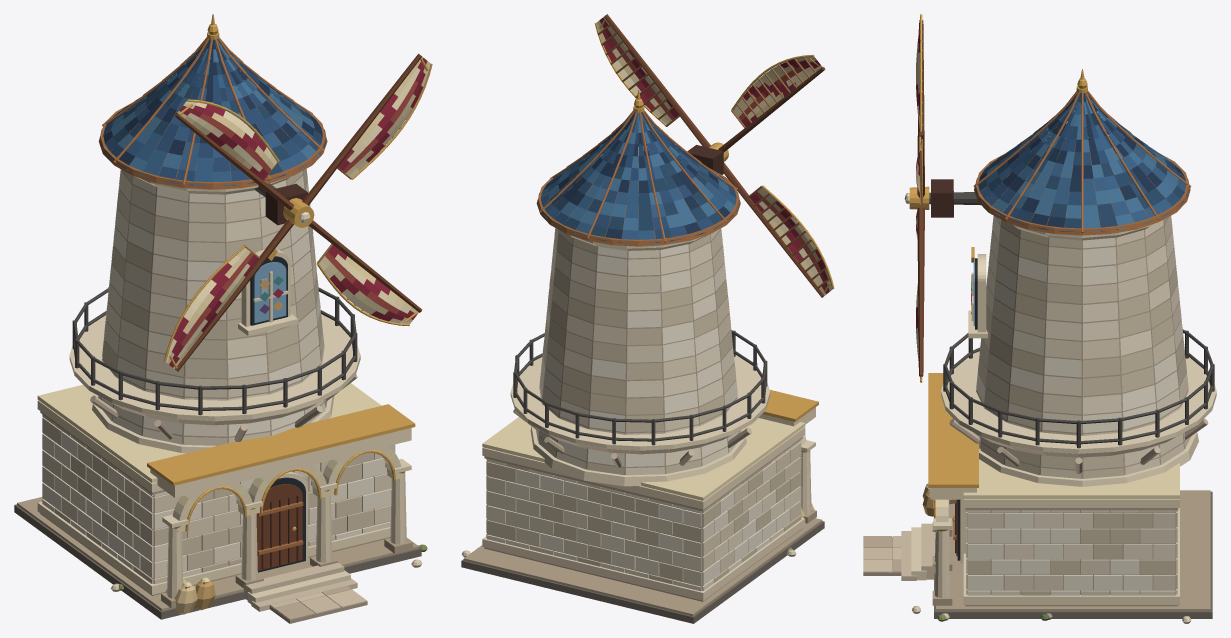
The model's file is windmill-nivel-8.glb.
3 views of the same model, side by side, from view 1: azimuth 30°, elevation 25°; view 2: azimuth 150°, elevation 25°; view 3: azimuth 270°, elevation 25° (orthographic). The views are drawn at different scales.
Parts seen in each view (by area): view 1: Moinho de vento 08 #e6d7ba, Moinho de vento 08 #ded1b9, Moinho de vento 08 #cec1a8, Moinho de vento 08 #e8dcc5, Moinho de vento 08 #eae1ce, Moinho de vento 08 #d5a452, Moinho de vento 08 #b3a390, Moinho de vento 08 #eadbb2, Moinho de vento 08 #a76e42, Moinho de vento 08 #504e4b, Moinho de vento 08 #b4a38a, Pás do moinho #922b40.001 (+18 smaller); view 2: Moinho de vento 08 #cec1a8, Moinho de vento 08 #e6d7ba, Moinho de vento 08 #e8dcc5, Moinho de vento 08 #ded1b9, Moinho de vento 08 #eae1ce, Moinho de vento 08 #b3a390, Moinho de vento 08 #b4a38a, Moinho de vento 08 #eadbb2, Moinho de vento 08 #a76e42, Moinho de vento 08 #504e4b, Moinho de vento 08 #426e90, Moinho de vento 08 #284763 (+14 smaller); view 3: Moinho de vento 08 #e6d7ba, Moinho de vento 08 #cec1a8, Moinho de vento 08 #ded1b9, Moinho de vento 08 #e8dcc5, Moinho de vento 08 #eae1ce, Moinho de vento 08 #b3a390, Moinho de vento 08 #b4a38a, Moinho de vento 08 #426e90, Moinho de vento 08 #a76e42, Moinho de vento 08 #504e4b, Moinho de vento 08 #eadbb2, Moinho de vento 08 #d5a452 (+11 smaller).
Part boxes in pixels (left/top/right/bottom): Moinho de vento 08 #e6d7ba: left=37, top=176, right=411, bottom=603; Moinho de vento 08 #ded1b9: left=42, top=179, right=395, bottom=584; Moinho de vento 08 #cec1a8: left=42, top=169, right=373, bottom=583; Moinho de vento 08 #e8dcc5: left=42, top=169, right=390, bottom=578; Moinho de vento 08 #eae1ce: left=42, top=180, right=391, bottom=569; Moinho de vento 08 #d5a452: left=147, top=14, right=415, bottom=531; Moinho de vento 08 #b3a390: left=99, top=170, right=390, bottom=583; Moinho de vento 08 #eadbb2: left=37, top=383, right=402, bottom=532; Moinho de vento 08 #a76e42: left=98, top=37, right=327, bottom=554; Moinho de vento 08 #504e4b: left=72, top=183, right=357, bottom=415; Moinho de vento 08 #b4a38a: left=17, top=411, right=418, bottom=611; Pás do moinho #922b40.001: left=169, top=58, right=427, bottom=367; Moinho de vento 08 #cec1a8: left=486, top=228, right=801, bottom=584; Moinho de vento 08 #e6d7ba: left=482, top=235, right=815, bottom=600; Moinho de vento 08 #e8dcc5: left=486, top=228, right=801, bottom=591; Moinho de vento 08 #ded1b9: left=486, top=229, right=801, bottom=585; Moinho de vento 08 #eae1ce: left=539, top=238, right=801, bottom=590; Moinho de vento 08 #b3a390: left=487, top=229, right=740, bottom=590; Moinho de vento 08 #b4a38a: left=463, top=437, right=822, bottom=616; Moinho de vento 08 #eadbb2: left=482, top=417, right=805, bottom=500; Moinho de vento 08 #a76e42: left=536, top=110, right=740, bottom=246; Moinho de vento 08 #504e4b: left=513, top=330, right=767, bottom=445; Moinho de vento 08 #426e90: left=538, top=113, right=737, bottom=230; Moinho de vento 08 #284763: left=543, top=112, right=722, bottom=242; Moinho de vento 08 #e6d7ba: left=911, top=223, right=1216, bottom=604; Moinho de vento 08 #cec1a8: left=968, top=217, right=1186, bottom=595; Moinho de vento 08 #ded1b9: left=966, top=216, right=1188, bottom=595; Moinho de vento 08 #e8dcc5: left=966, top=217, right=1190, bottom=595; Moinho de vento 08 #eae1ce: left=966, top=216, right=1188, bottom=595; Moinho de vento 08 #b3a390: left=967, top=217, right=1187, bottom=594; Moinho de vento 08 #b4a38a: left=932, top=490, right=1210, bottom=611; Moinho de vento 08 #426e90: left=986, top=93, right=1178, bottom=232; Moinho de vento 08 #a76e42: left=953, top=91, right=1191, bottom=539; Moinho de vento 08 #504e4b: left=929, top=192, right=1214, bottom=448; Moinho de vento 08 #eadbb2: left=936, top=459, right=1179, bottom=532; Moinho de vento 08 #d5a452: left=928, top=69, right=1087, bottom=531.
Bounding box in the file's own units: 6.08 × 10.76 × 6.97.
